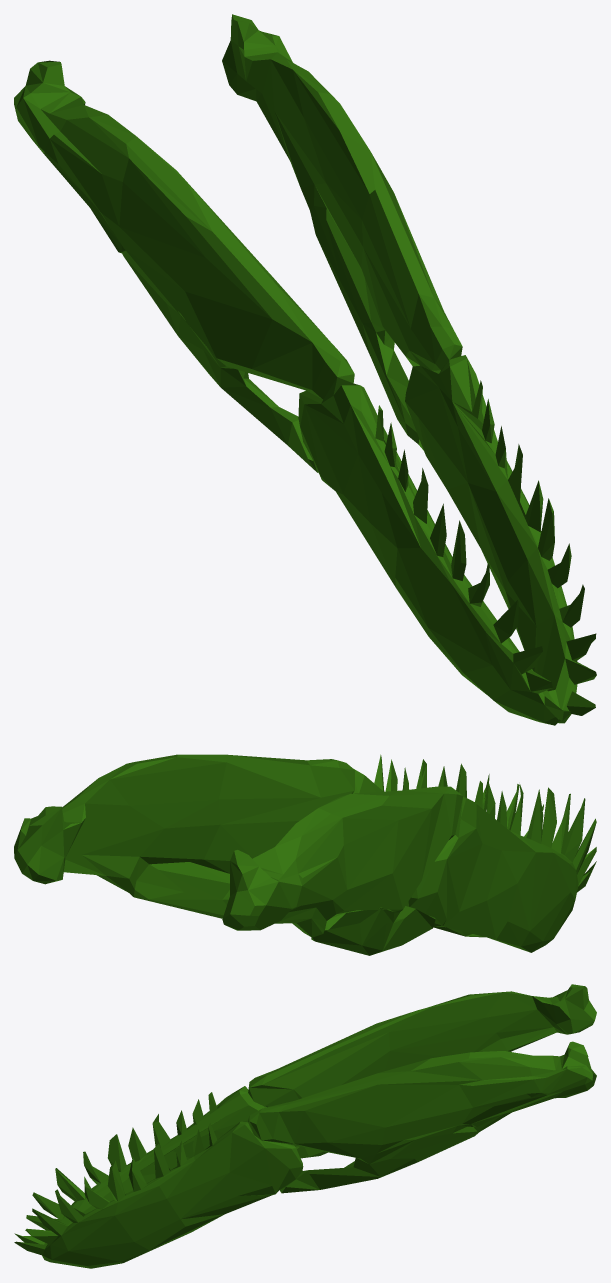
The model's file is SkeletonRexJaw.fbx.
The picture shows the model from 3 angles, top to bottom: view 1: azimuth 30°, elevation 25°; view 2: azimuth 150°, elevation 25°; view 3: azimuth 270°, elevation 25°; orthographic projection. The views are drawn at different scales.
Parts seen in each view (by area): view 1: SkeletonRexJaw; view 2: SkeletonRexJaw; view 3: SkeletonRexJaw.
Part boxes in pixels (x1,y1,x2,y2): SkeletonRexJaw: (14, 14, 596, 725); SkeletonRexJaw: (14, 754, 596, 955); SkeletonRexJaw: (14, 984, 596, 1268).
Size of the model in its own units: 85.2 by 124 by 263.
